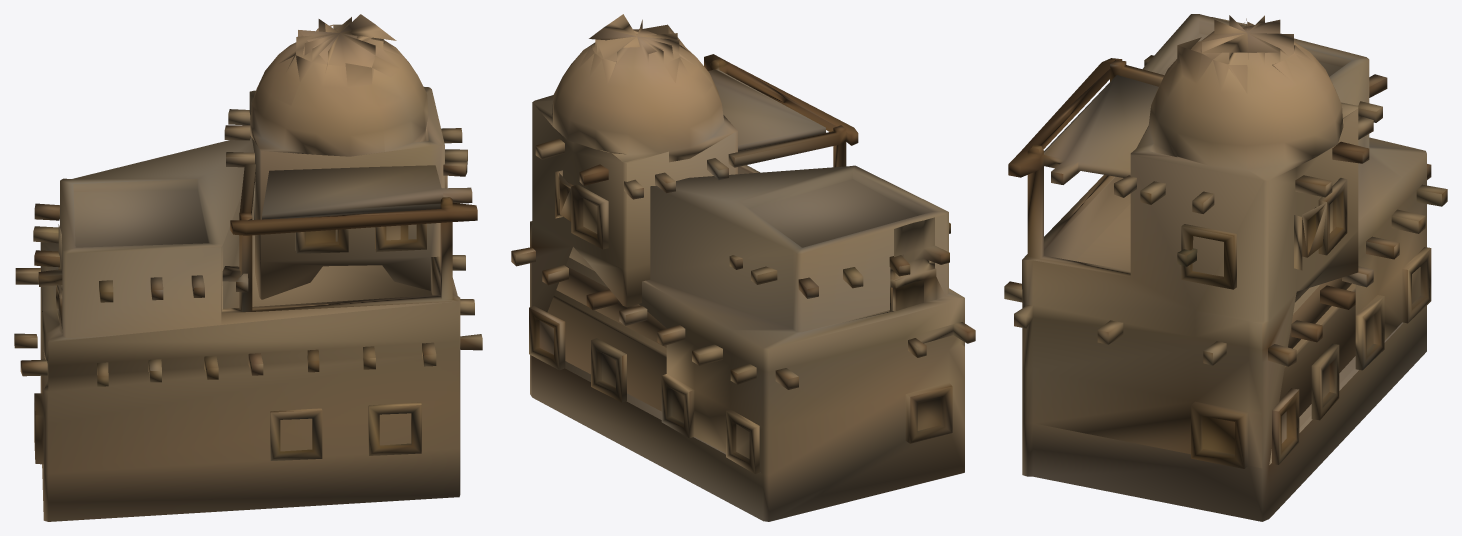
File: building-6.fbx
3 views of the same model, side by side, from view 1: azimuth 30°, elevation 25°; view 2: azimuth 150°, elevation 25°; view 3: azimuth 270°, elevation 25° (orthographic). The views are drawn at different scales.
Parts seen in each view (by area): view 1: Adobe_Express_file_Three_dimensional_model_of_a_desert_buil.; view 2: Adobe_Express_file_Three_dimensional_model_of_a_desert_buil.; view 3: Adobe_Express_file_Three_dimensional_model_of_a_desert_buil..
Boxes of the visible parts, <box> form: Adobe_Express_file_Three_dimensional_model_of_a_desert_buil.: <box>14,14,482,521</box>; Adobe_Express_file_Three_dimensional_model_of_a_desert_buil.: <box>511,14,975,521</box>; Adobe_Express_file_Three_dimensional_model_of_a_desert_buil.: <box>1004,14,1447,521</box>.
Size of the model in its own units: 3573 by 3002 by 2788.
